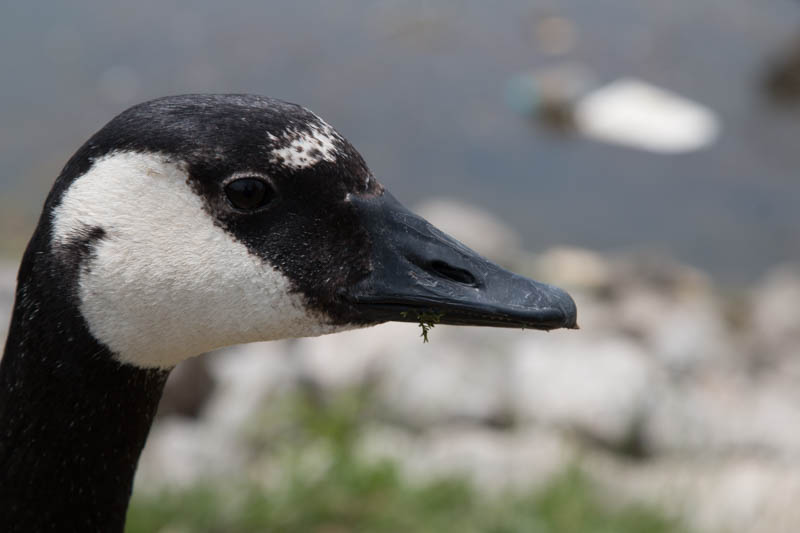goose-head: (1, 94, 579, 369)
